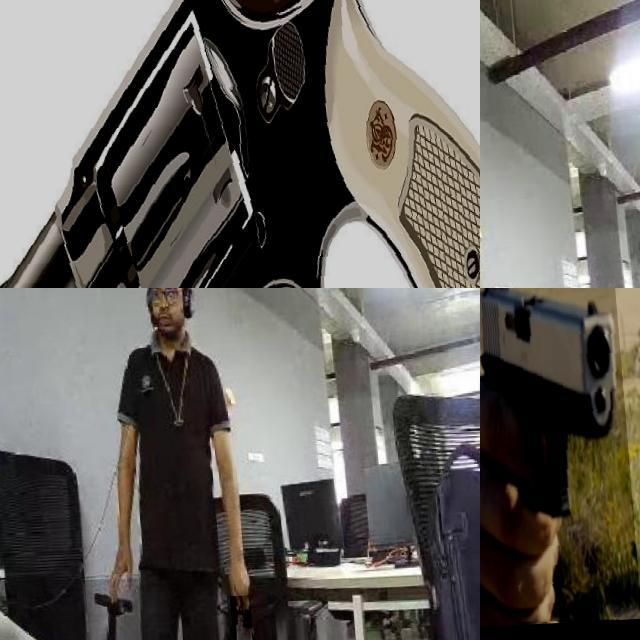-: (220, 598, 245, 640)
gun-knife-thesis - v11 Yolov5 augmented: (0, 0, 480, 288), (480, 288, 631, 630)
